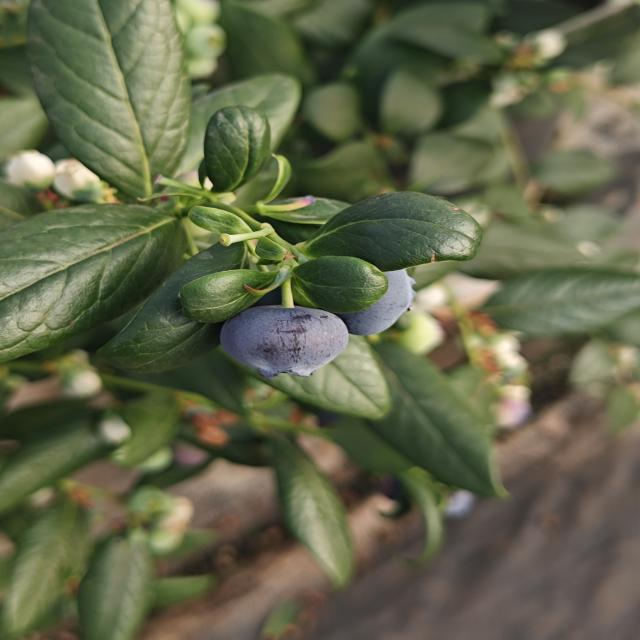ripe: (217, 303, 351, 382), (333, 267, 419, 338)
